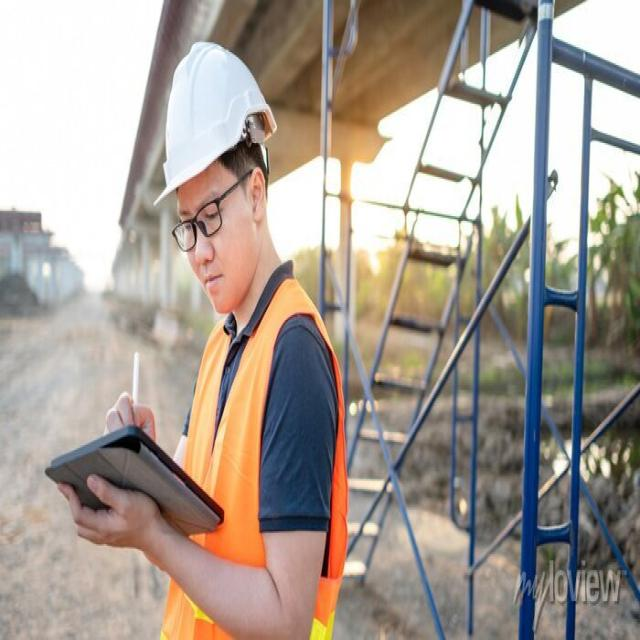goggles: (156, 191, 261, 255)
helmet: (138, 40, 280, 212)
vest: (149, 271, 350, 640)
